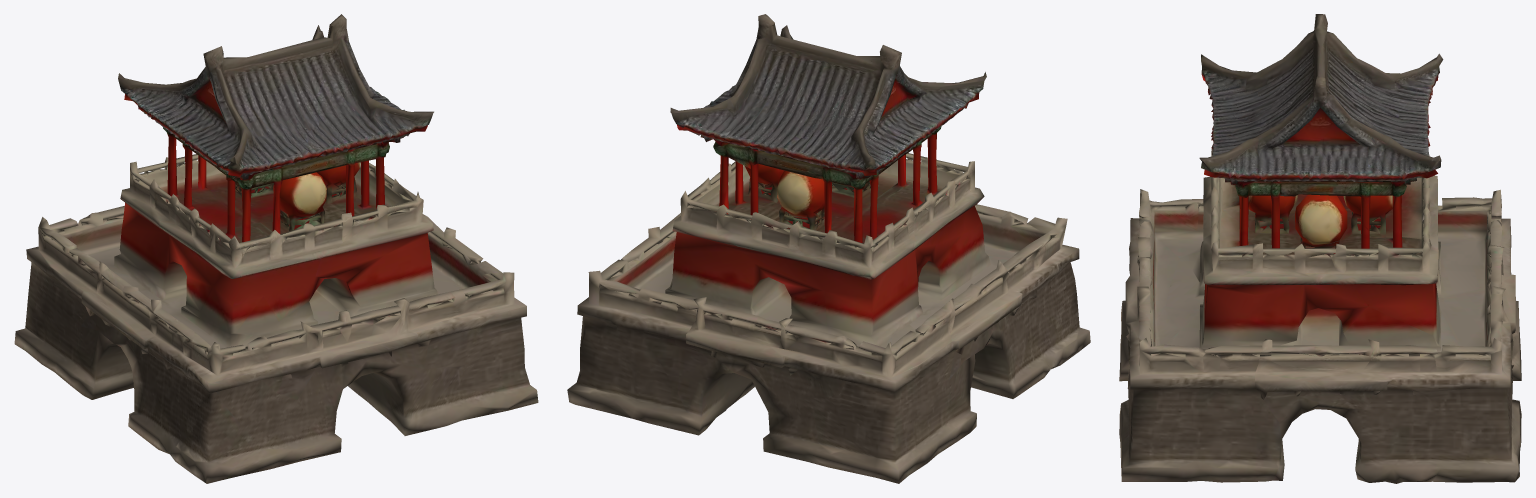
File: court-tower.glb
The picture shows the model from 3 angles, left to right: view 1: azimuth 30°, elevation 25°; view 2: azimuth 150°, elevation 25°; view 3: azimuth 270°, elevation 25°; orthographic projection. The views are drawn at different scales.
Parts seen in each view (by area): view 1: tripo_node_c86a09ab-c48a-494e-8977-8927cf2ae4b0; view 2: tripo_node_c86a09ab-c48a-494e-8977-8927cf2ae4b0; view 3: tripo_node_c86a09ab-c48a-494e-8977-8927cf2ae4b0.
Boxes of the visible parts, <box> form: tripo_node_c86a09ab-c48a-494e-8977-8927cf2ae4b0: <box>14,14,538,483</box>; tripo_node_c86a09ab-c48a-494e-8977-8927cf2ae4b0: <box>567,14,1090,483</box>; tripo_node_c86a09ab-c48a-494e-8977-8927cf2ae4b0: <box>1119,14,1521,483</box>.
Bounding box in the file's own units: 1 × 0.9728 × 0.9993.
1 material, 1 textured.
